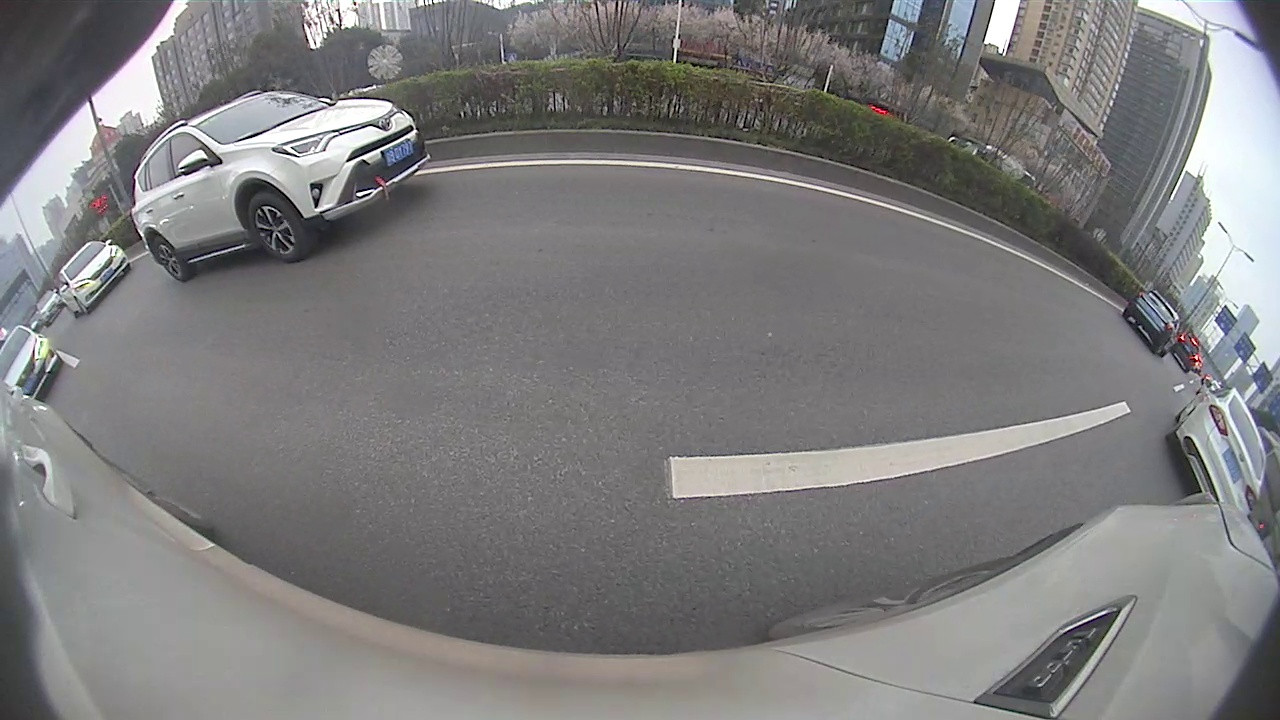car: (129, 87, 433, 282), (1163, 379, 1268, 513), (53, 237, 133, 317), (0, 325, 63, 402), (1121, 288, 1185, 357)
front: (247, 195, 303, 263)
rear: (152, 236, 186, 280)
